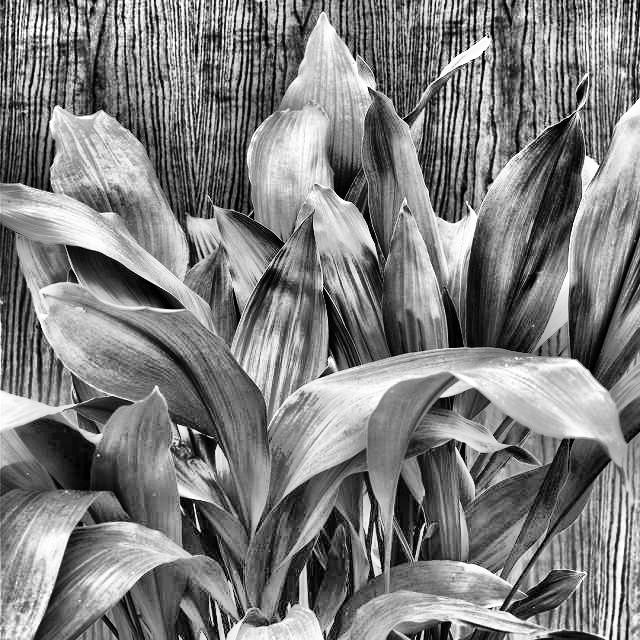plants: (50, 88, 554, 619)
